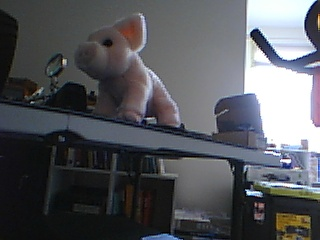piggy: (73, 12, 182, 129)
